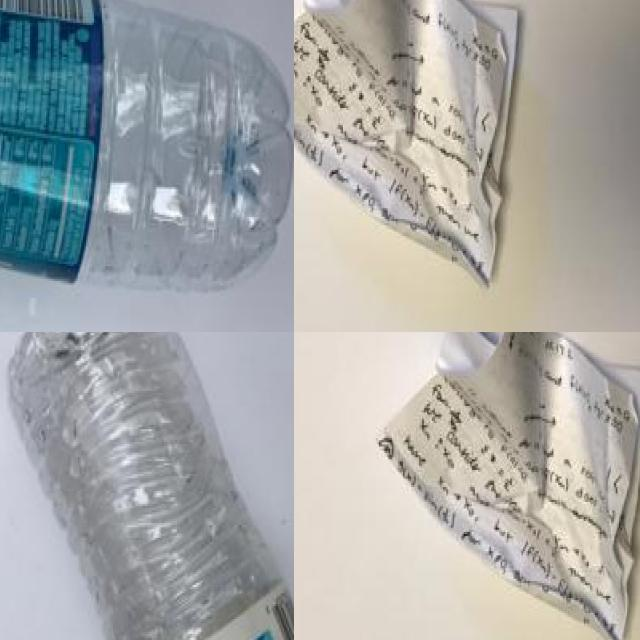paper: (385, 332, 640, 640), (294, 0, 533, 290)
plastic: (0, 0, 294, 312), (10, 332, 294, 640)
